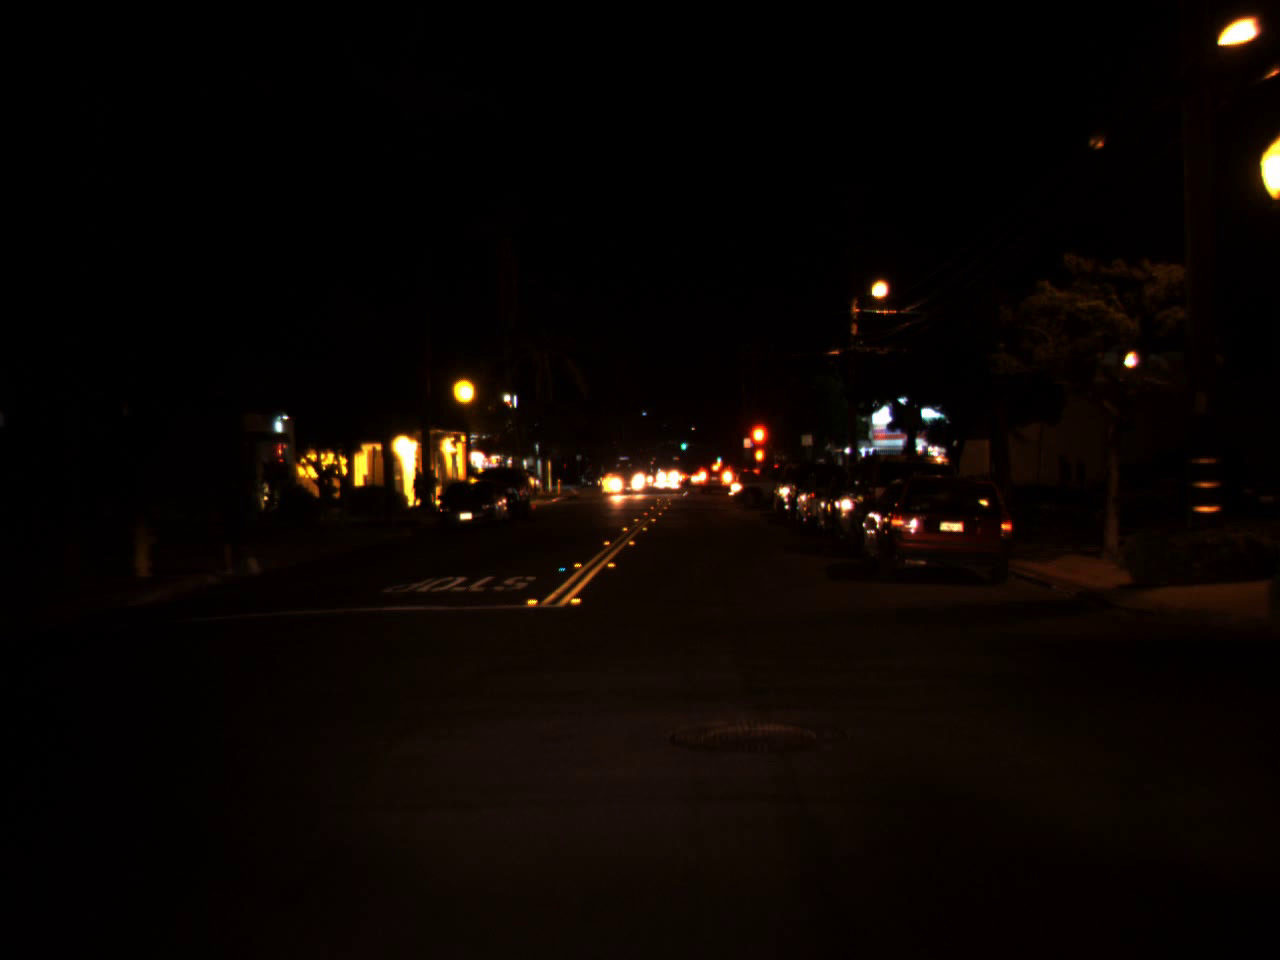go: (679, 436, 688, 451), (713, 448, 722, 463)
stop: (747, 421, 771, 469)
